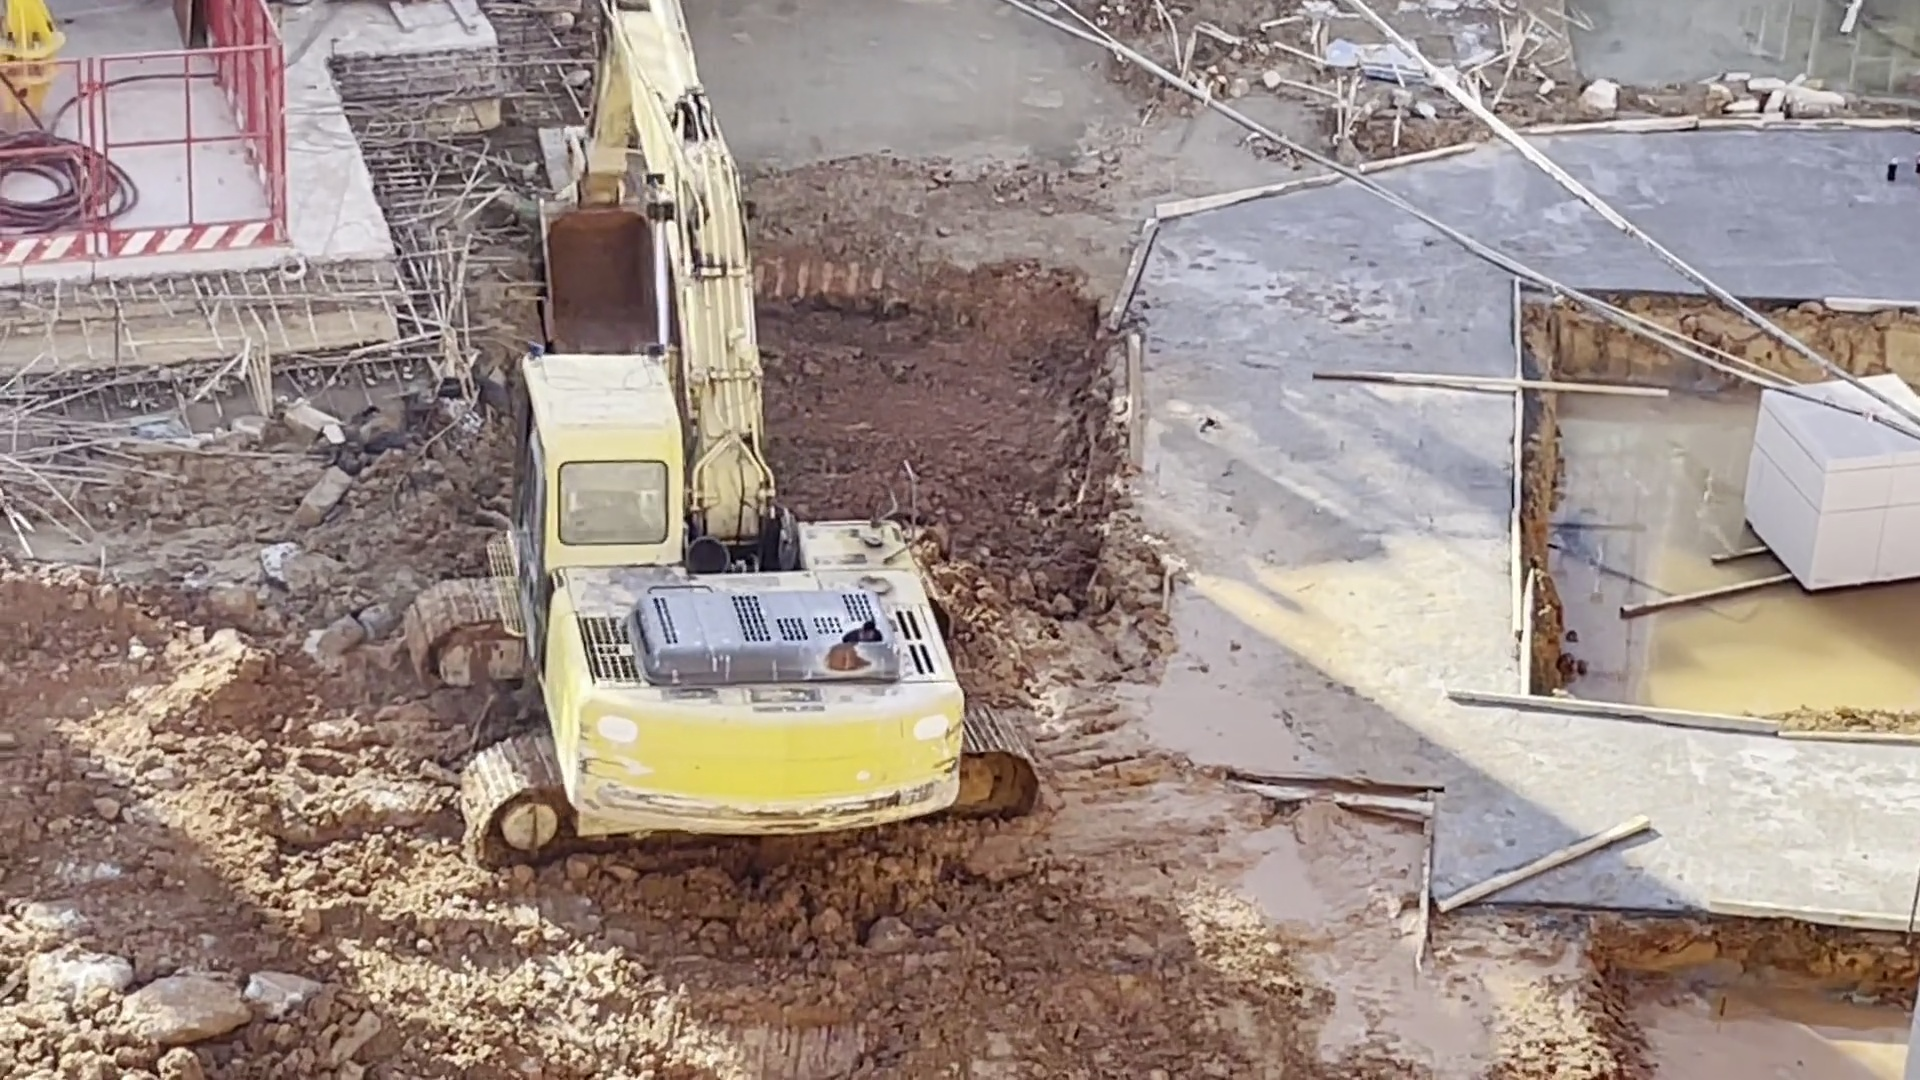brick: (1731, 434, 1920, 588)
fence: (3, 42, 274, 255), (225, 1, 291, 265)
